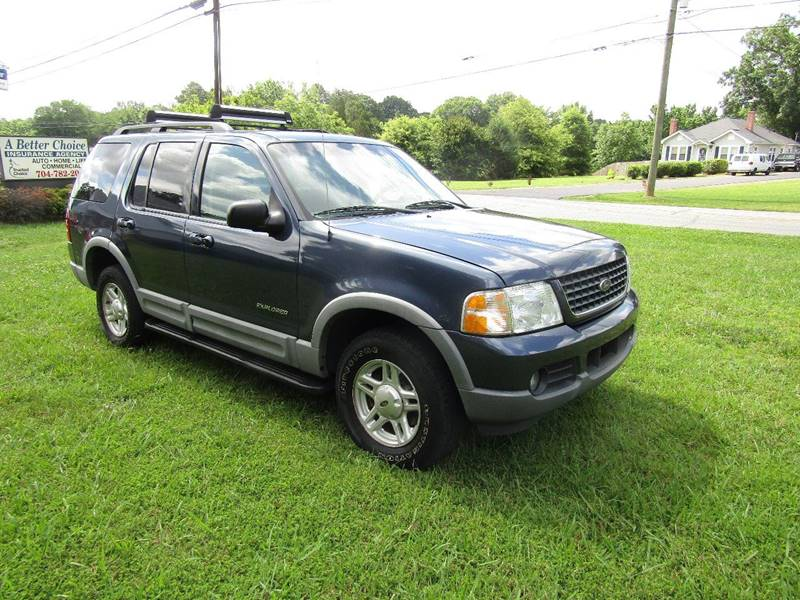Ford Explorer: (59, 102, 643, 471)
